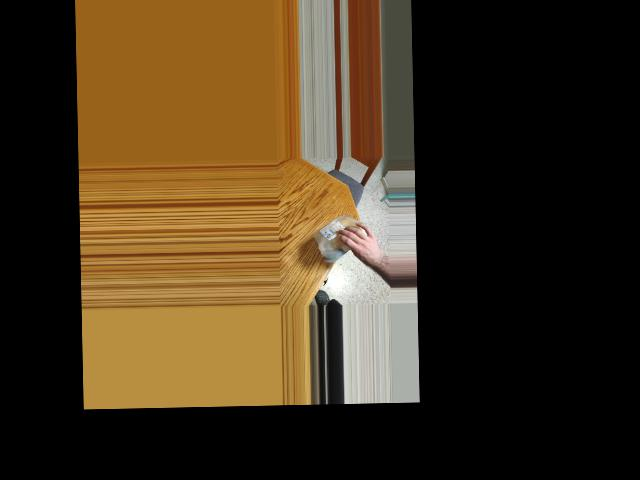cheese: (315, 213, 371, 259)
